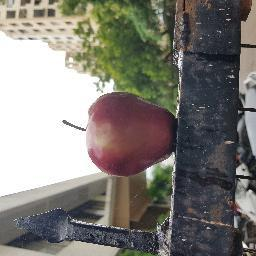Good_apple: (85, 95, 177, 177)
